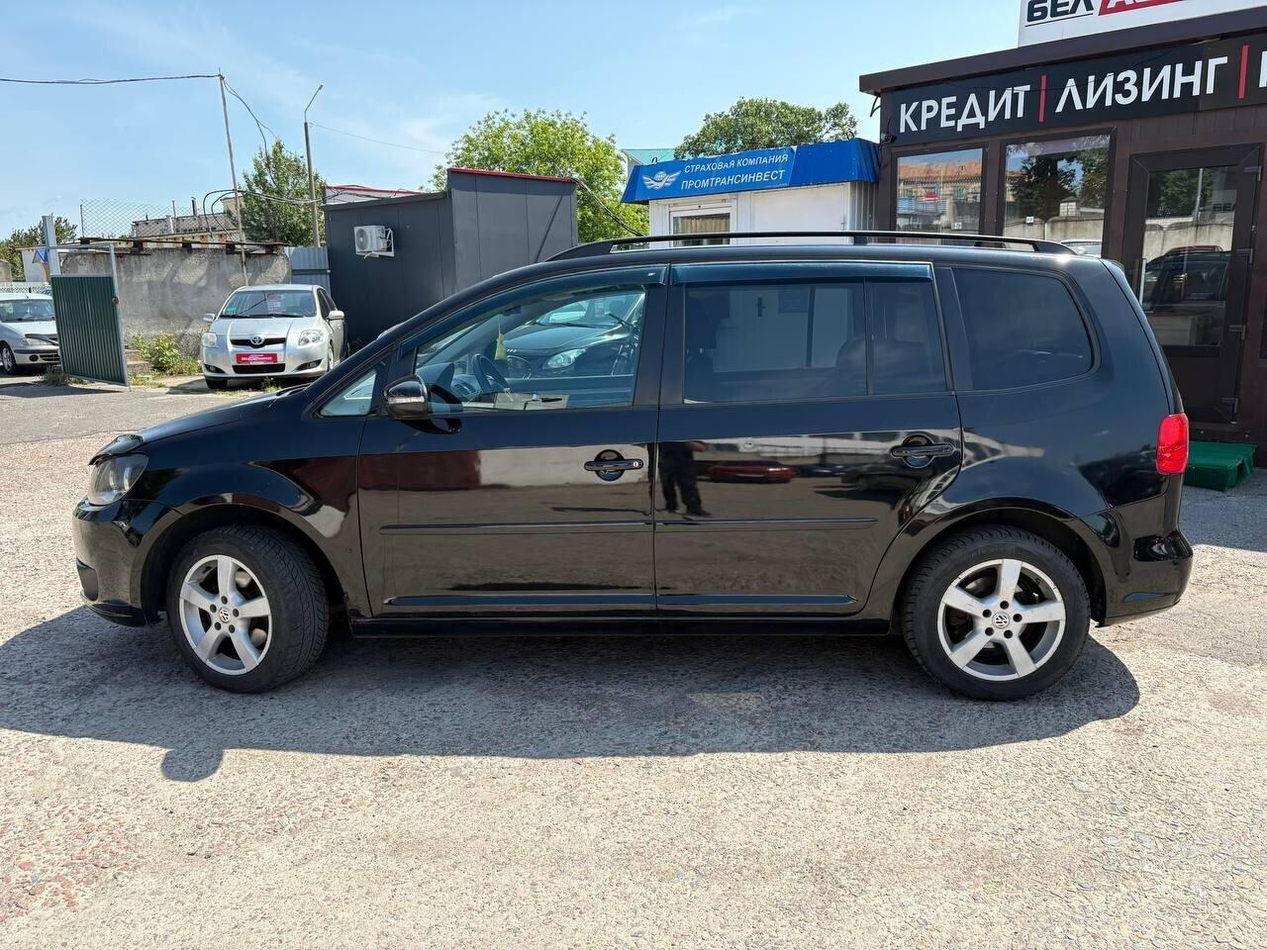Touran_2010-2015: (68, 230, 1200, 703)
